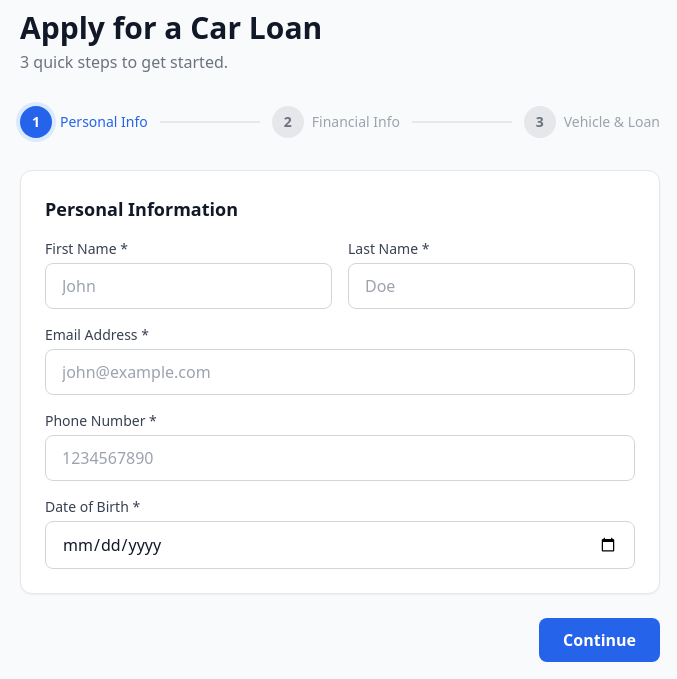
Test: ApplyPage – step navigation › returns to step 1 when Back is clicked
Type "Jane" into the field with placeholder "John".
click(188, 286); type("Jane")  # box left=45, top=263, right=332, bottom=309
Type "Smith" into the field with placeholder "Doe".
click(492, 286); type("Smith")  # box left=348, top=263, right=635, bottom=309
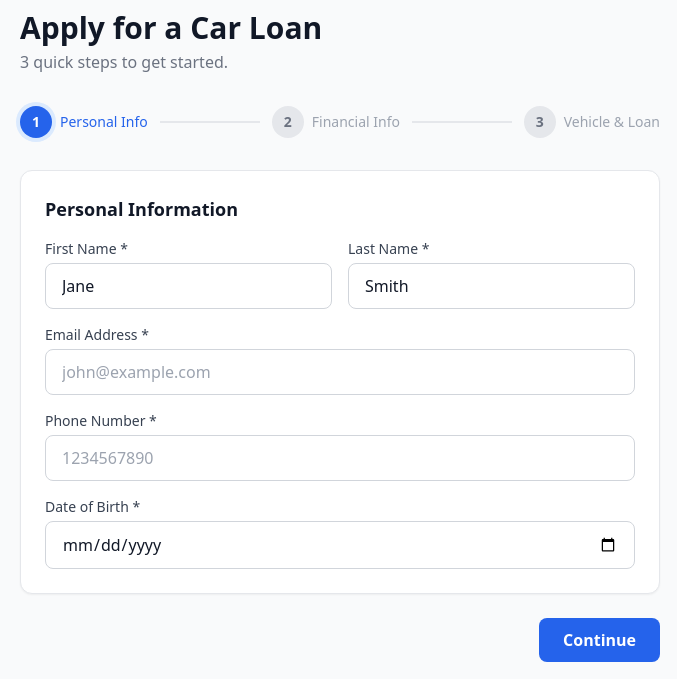
Type "jane@example.com" into the field with placeholder "john@example.com".
click(340, 372); type("jane@example.com")  # box left=45, top=349, right=635, bottom=395
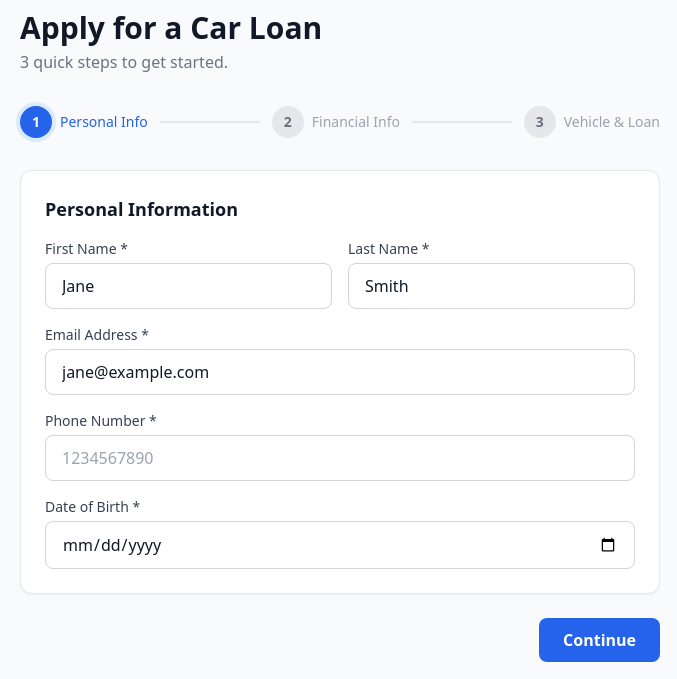
Type "9876543210" into the field with placeholder "1234567890".
click(340, 458); type("9876543210")  # box left=45, top=435, right=635, bottom=481
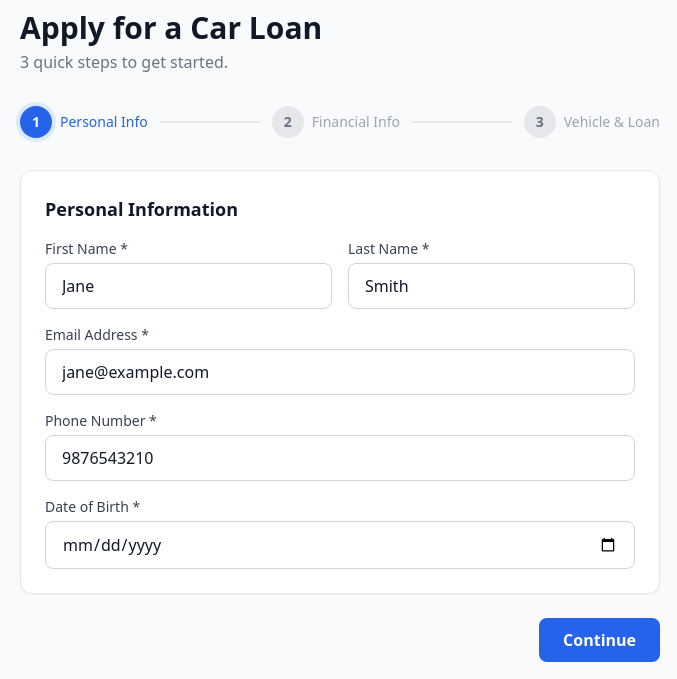
Type "1990-06-15" into the date field.
click(340, 545); type("1990-06-15")  # box left=45, top=521, right=635, bottom=569
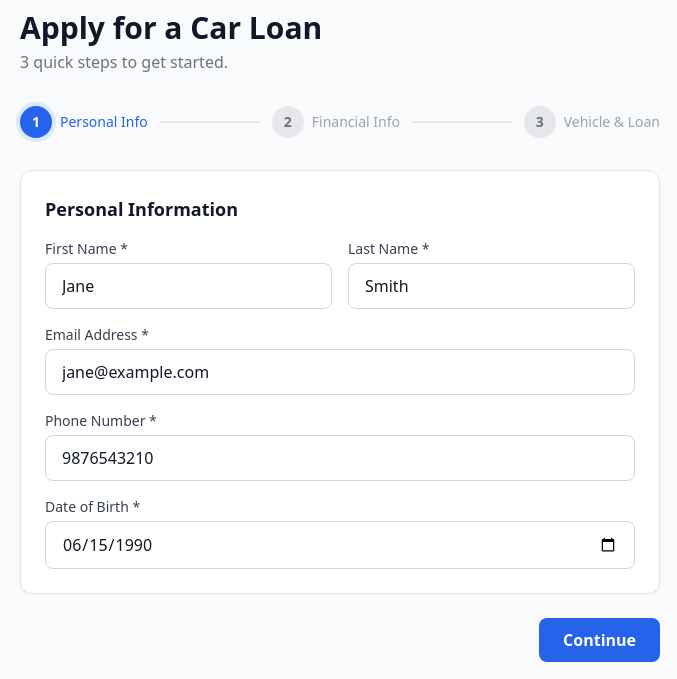
Click the button "Continue".
click(600, 640)  # box left=539, top=618, right=660, bottom=662
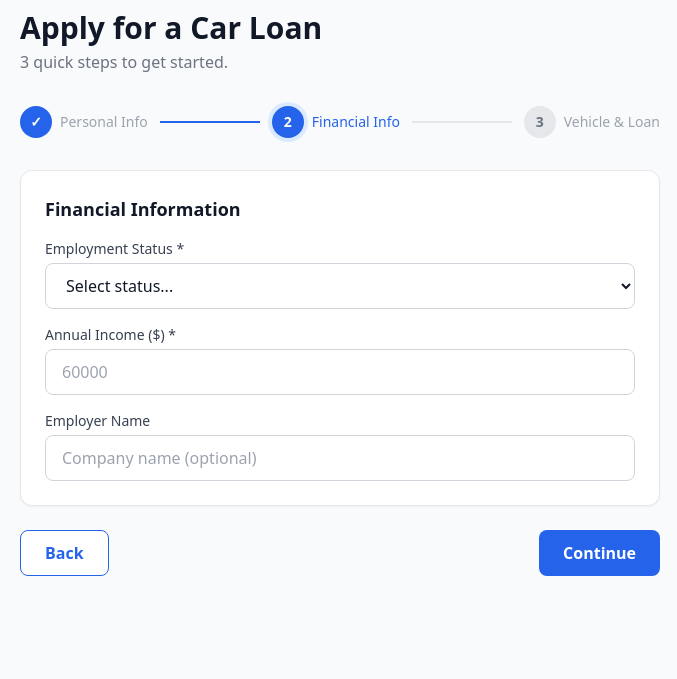
expect the heading "Financial Information" is shown: met, box left=45, top=197, right=241, bottom=221
Click the button "Back".
click(64, 553)  # box left=20, top=530, right=109, bottom=576
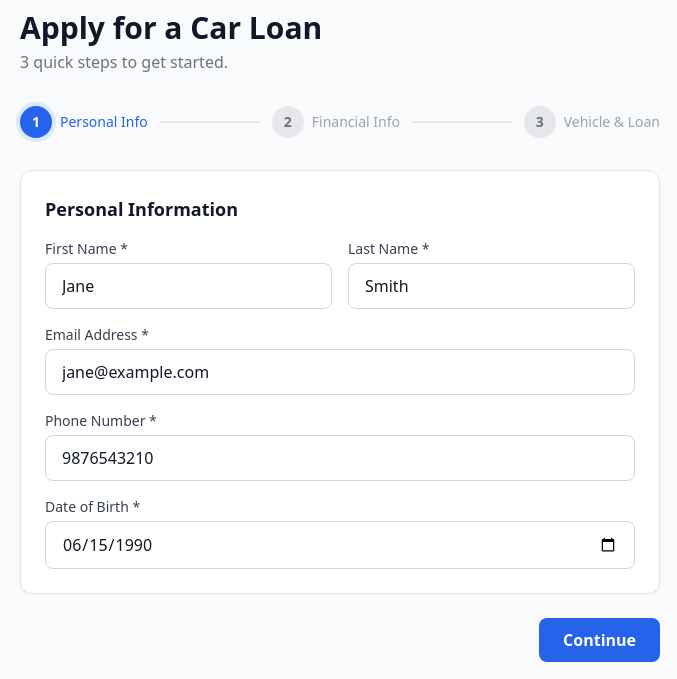
expect the field with placeholder "John" below "First Name *" is shown: met, box left=45, top=263, right=332, bottom=309
